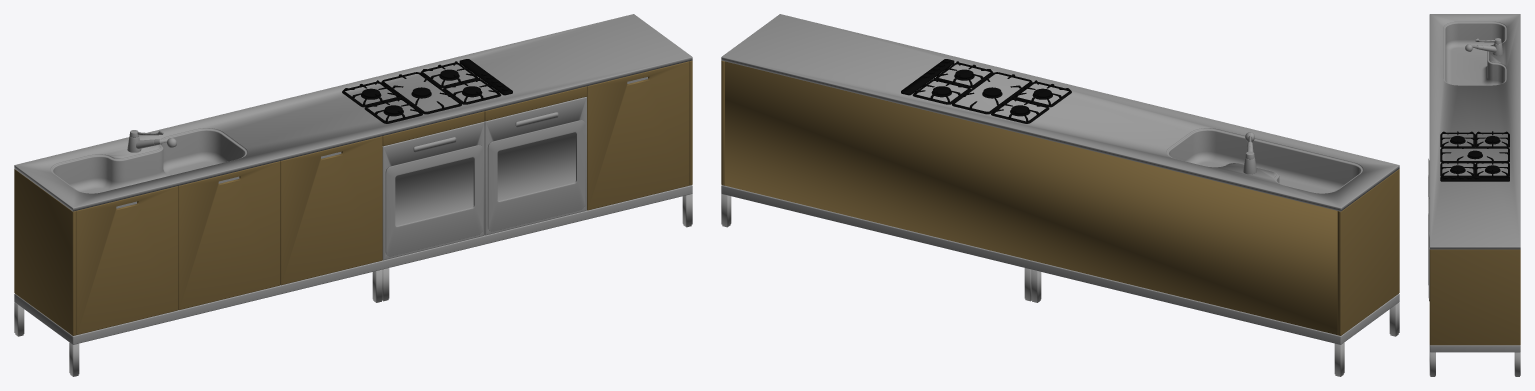
File: Encimera.FBX
3 renders of one model, left to right at view 1: azimuth 30°, elevation 25°; view 2: azimuth 150°, elevation 25°; view 3: azimuth 270°, elevation 25°, orthographic. The views are drawn at different scales.
Visible parts, largest first — view 1: Obj_000001, Obj_000004, Obj_000002, Obj_000003; view 2: Obj_000001, Obj_000004, Obj_000002, Obj_000003; view 3: Obj_000004, Obj_000001, Obj_000003, Obj_000002.
Part boxes in pixels (x1,y1,x2,y2): Obj_000001: (14, 60, 692, 335); Obj_000004: (14, 14, 692, 260); Obj_000002: (14, 185, 692, 376); Obj_000003: (342, 59, 512, 123); Obj_000001: (721, 60, 1399, 335); Obj_000004: (721, 14, 1399, 211); Obj_000002: (721, 185, 1399, 376); Obj_000003: (901, 59, 1071, 123); Obj_000004: (1428, 14, 1520, 301); Obj_000001: (1429, 249, 1520, 345); Obj_000003: (1440, 131, 1509, 181); Obj_000002: (1429, 345, 1520, 376).
Bounding box in the file's own units: 3276 × 985 × 549.
